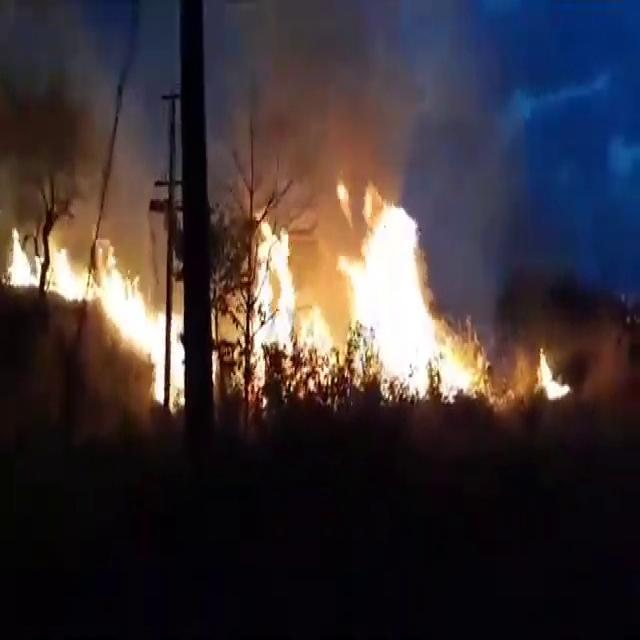Fire: (361, 224, 430, 368), (102, 280, 150, 350)
